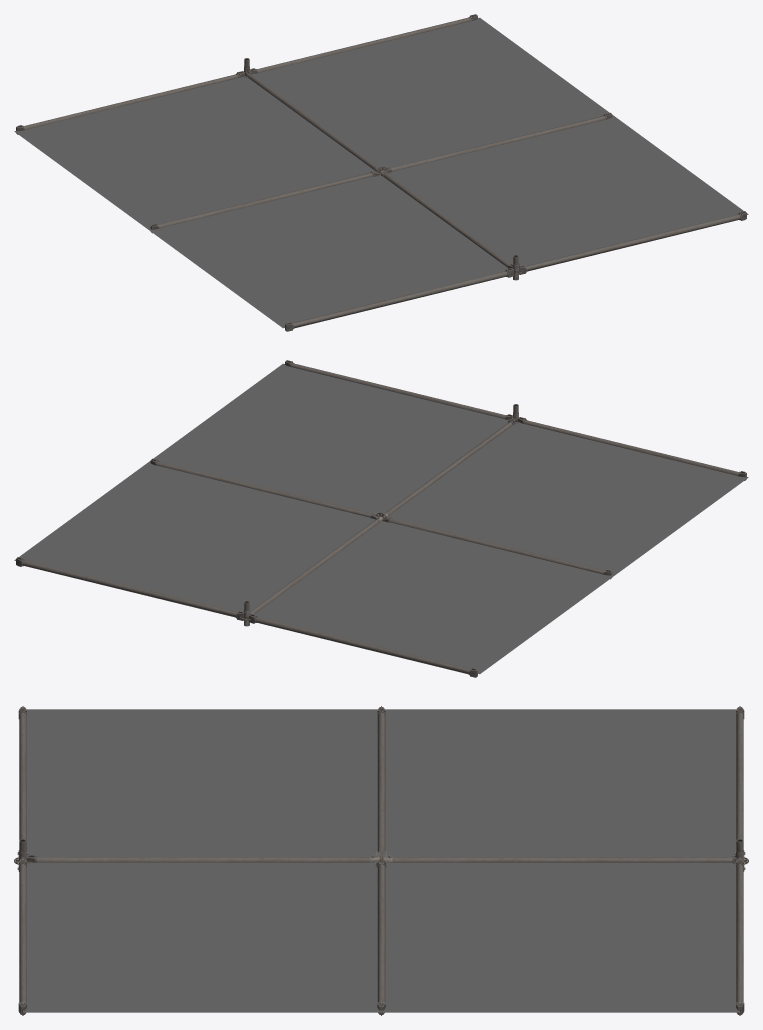
File: scaffold_topbottom_cap_384.fbx
3 renders of one model, top to bottom at view 1: azimuth 30°, elevation 25°; view 2: azimuth 150°, elevation 25°; view 3: azimuth 270°, elevation 25°, orthographic. The views are drawn at different scales.
Parts seen in each view (by area): view 1: scaffold_topbottom_cap_384; view 2: scaffold_topbottom_cap_384; view 3: scaffold_topbottom_cap_384.
Part boxes in pixels (x1,y1,x2,y2): scaffold_topbottom_cap_384: [14, 14, 748, 331]; scaffold_topbottom_cap_384: [14, 360, 748, 677]; scaffold_topbottom_cap_384: [14, 706, 748, 1015].
Size of the model in its own units: 384 by 17.98 by 394.
Materials: 3 (2 with a texture image).
